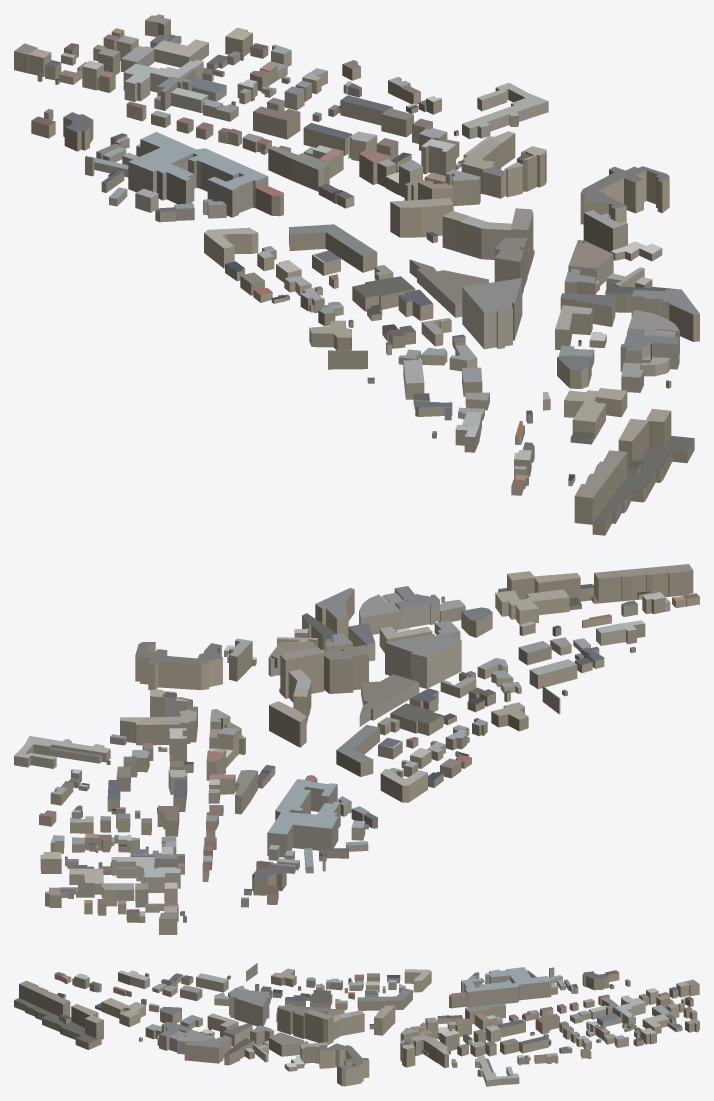
3 renders of one model, top to bottom at view 1: azimuth 30°, elevation 25°; view 2: azimuth 150°, elevation 25°; view 3: azimuth 270°, elevation 25°, orthographic. The views are drawn at different scales.
Visible parts, largest first — view 1: tuile; view 2: tuile; view 3: tuile.
Boxes of the visible parts, x1,y1,x2,y2 form: tuile: [14, 14, 699, 535]; tuile: [14, 564, 699, 934]; tuile: [14, 963, 699, 1086].
Bounding box in the file's own units: 369 × 64.03 × 909.
